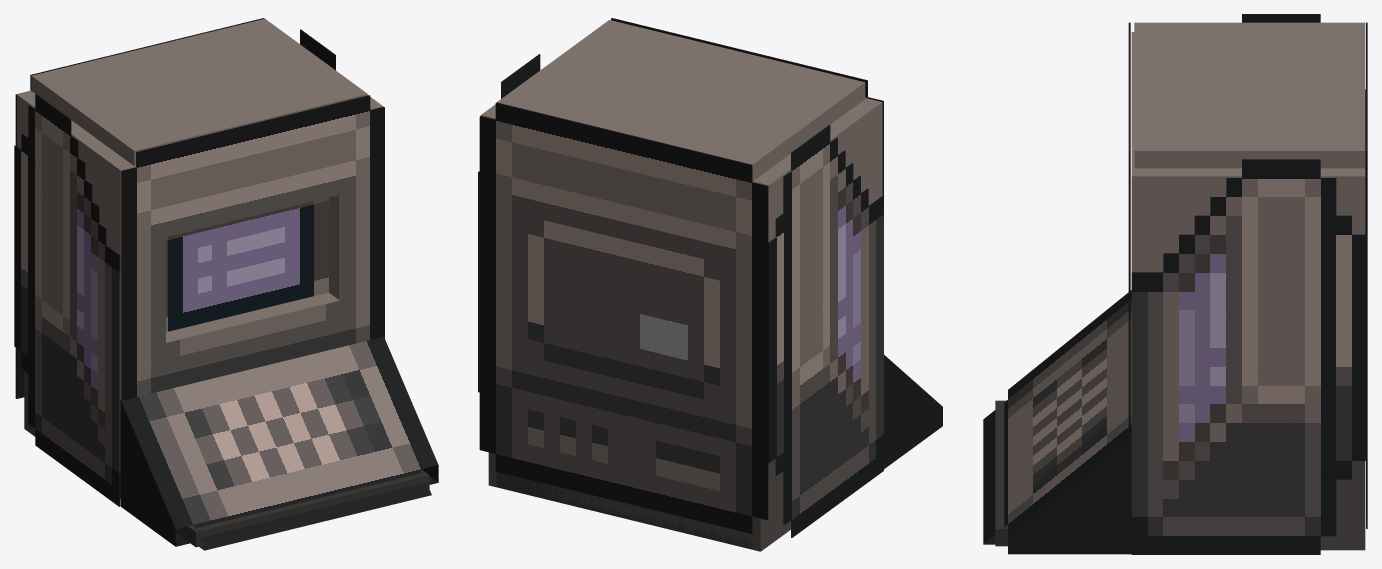
File: CMU3DReduxCMUResearchDataTerminalGovforResearchTerminalEast.glb
3 views of the same model, side by side, from view 1: azimuth 30°, elevation 25°; view 2: azimuth 150°, elevation 25°; view 3: azimuth 270°, elevation 25° (orthographic). The views are drawn at different scales.
Parts seen in each view (by area): view 1: original front bezel, source keyboard on sloping deck, original left monitor profile, stepped crown, recessed display glass, upper monitor bezel, keyboard lower foot, lower monitor bezel, right monitor bezel, original rear service cover, original right monitor profile; view 2: original rear service cover, original left monitor profile, stepped crown, rear base and hinge, upper monitor bezel, source keyboard on sloping deck, keyboard lower foot, original right monitor profile, original front bezel; view 3: original right monitor profile, stepped crown, source keyboard on sloping deck, upper monitor bezel, rear base and hinge, keyboard lower foot, original front bezel, original left monitor profile, monitor rear casting, original rear service cover.
Part boxes in pixels (x1=…): original front bezel: x1=121, y1=95, x2=384, y2=400; source keyboard on sloping deck: x1=120, y1=337, x2=438, y2=550; original left monitor profile: x1=14, y1=94, x2=120, y2=506; stepped crown: x1=31, y1=18, x2=367, y2=165; recessed display glass: x1=166, y1=197, x2=328, y2=331; upper monitor bezel: x1=17, y1=93, x2=383, y2=246; keyboard lower foot: x1=175, y1=469, x2=429, y2=547; lower monitor bezel: x1=166, y1=292, x2=339, y2=343; right monitor bezel: x1=329, y1=195, x2=340, y2=300; original rear service cover: x1=15, y1=18, x2=264, y2=398; original right monitor profile: x1=300, y1=29, x2=384, y2=338; original rear service cover: x1=479, y1=102, x2=768, y2=533; original left monitor profile: x1=768, y1=125, x2=883, y2=537; stepped crown: x1=497, y1=20, x2=865, y2=181; rear base and hinge: x1=488, y1=452, x2=790, y2=551; upper monitor bezel: x1=480, y1=98, x2=882, y2=242; source keyboard on sloping deck: x1=884, y1=355, x2=942, y2=468; keyboard lower foot: x1=496, y1=472, x2=752, y2=549; original right monitor profile: x1=478, y1=54, x2=540, y2=392; original front bezel: x1=611, y1=18, x2=883, y2=195; original right monitor profile: x1=1131, y1=159, x2=1367, y2=554; stepped crown: x1=1134, y1=22, x2=1365, y2=168; source keyboard on sloping deck: x1=983, y1=290, x2=1131, y2=554; upper monitor bezel: x1=1131, y1=32, x2=1365, y2=261; rear base and hinge: x1=1320, y1=461, x2=1365, y2=550; keyboard lower foot: x1=995, y1=400, x2=1007, y2=546; original front bezel: x1=1128, y1=22, x2=1130, y2=433; original left monitor profile: x1=1242, y1=14, x2=1365, y2=234; monitor rear casting: x1=1174, y1=168, x2=1365, y2=172; original rear service cover: x1=1366, y1=22, x2=1367, y2=528.
Bounding box in the file's own units: 0.5685 × 0.7188 × 0.634.
Materials: 8 (5 with a texture image).
